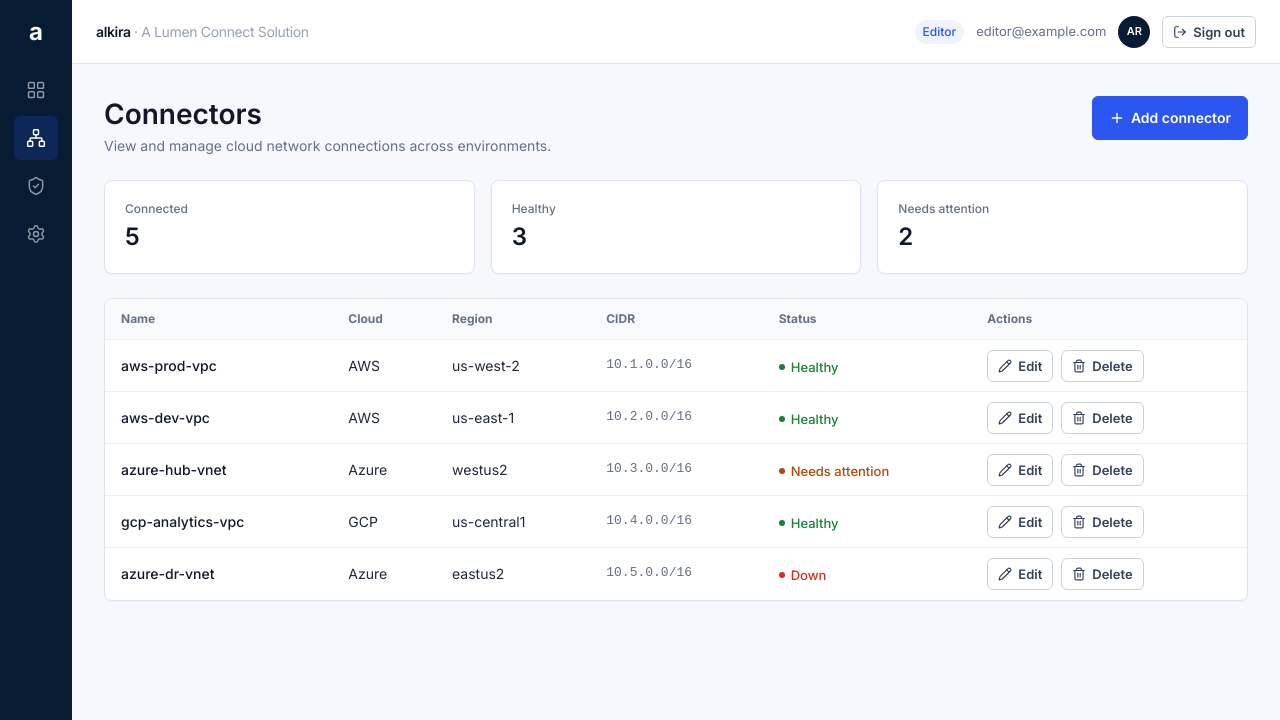
it: ConnectorsPage › lets an editor delete a connector
Expected: the column heading "aws-prod-vpc" is shown, [105,340,332,392]
Click the button with aria-label "Delete aws-prod-vpc" at coordinates (1102, 366), box [1061,350,1144,382]
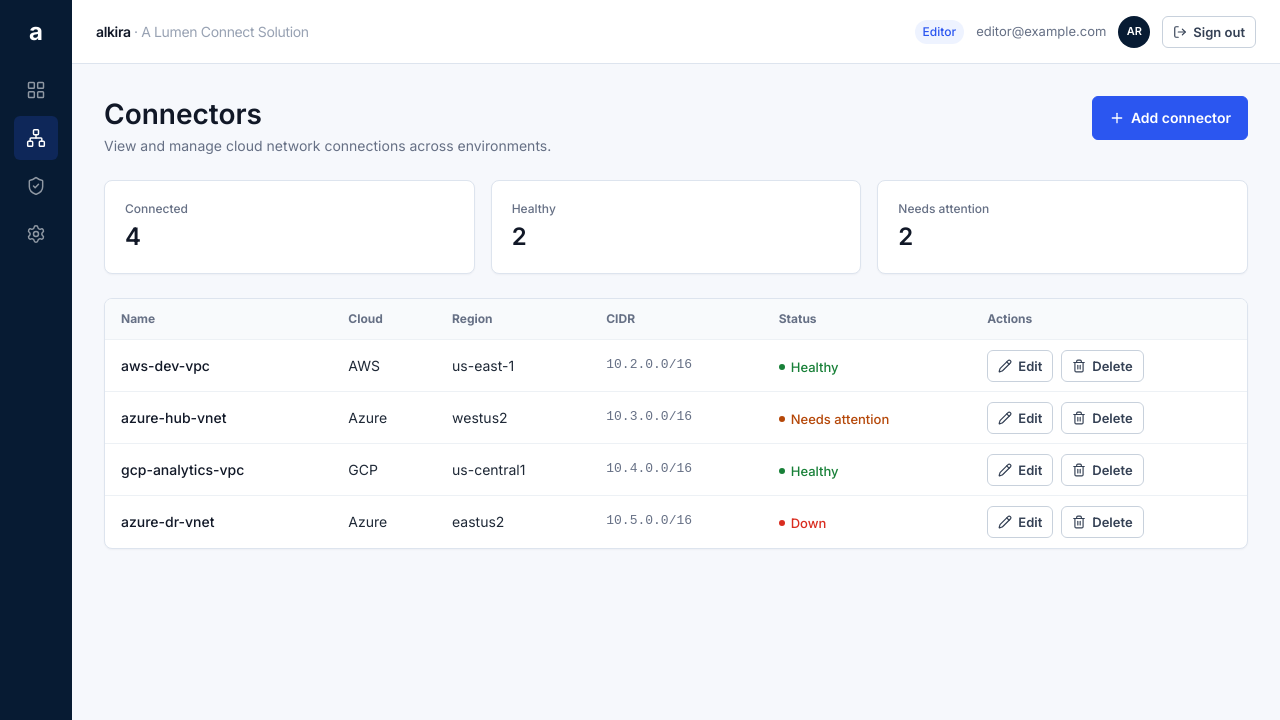
Expected: the column heading "aws-prod-vpc" is gone
